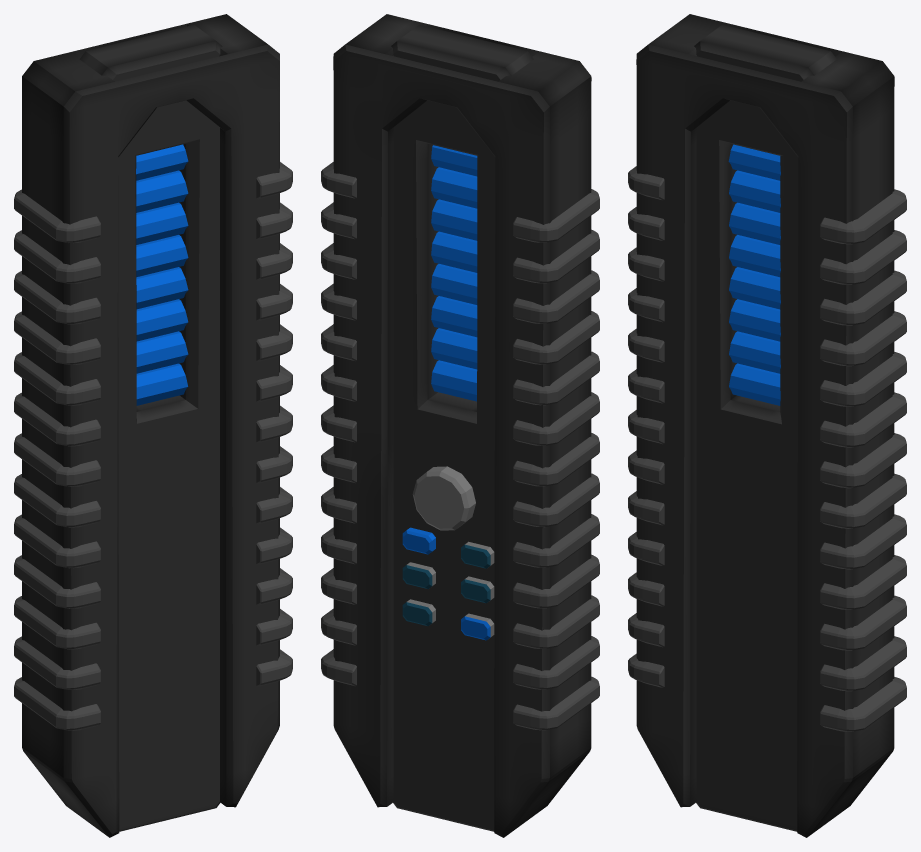
The model's file is Magazine_Plasma.fbx.
3 renders of one model, left to right at view 1: azimuth 30°, elevation 25°; view 2: azimuth 150°, elevation 25°; view 3: azimuth 330°, elevation 25°, orthographic.
Parts seen in each view (by area): view 1: Box009, Object005; view 2: Box009, Object005; view 3: Box009, Object005.
Part boxes in pixels (x1,y1,x2,y2): Box009: (14, 14, 292, 837); Object005: (79, 25, 222, 831); Box009: (321, 14, 599, 837); Object005: (391, 24, 533, 831); Box009: (628, 14, 906, 837); Object005: (694, 24, 836, 831).
Size of the model in its own units: 24.69 by 76.44 by 10.
